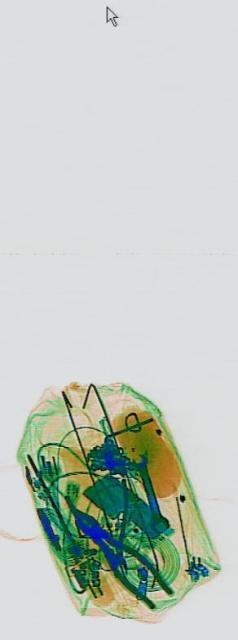Pliers: (62, 431, 140, 619), (71, 488, 171, 628)
Wrench: (130, 436, 167, 546)
